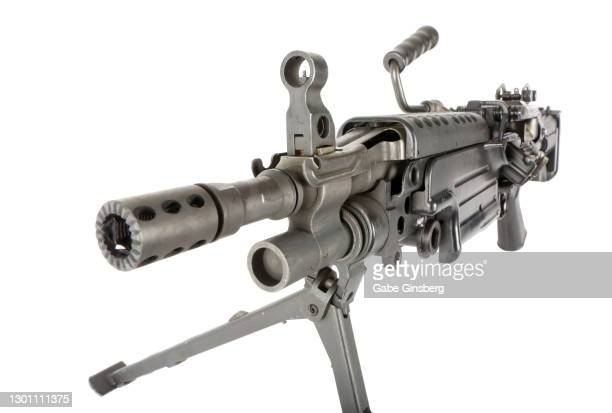gun: (98, 53, 562, 293)
